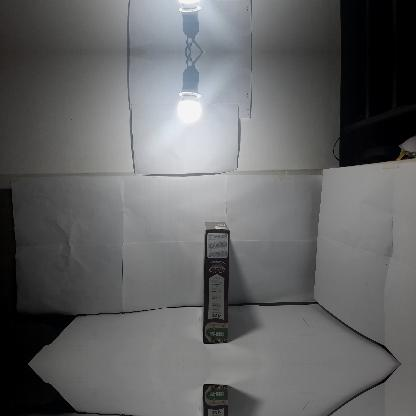Koko-Krunch: (201, 222, 229, 342), (201, 385, 230, 415)
